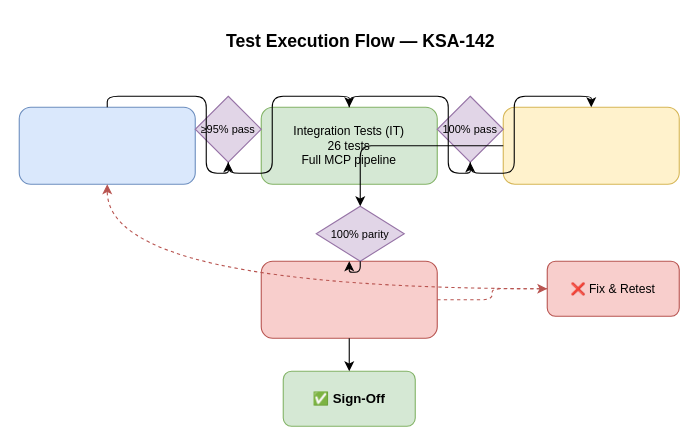
The diagram is 699 pixels wide and 446 high, and some of its shapes have lost their labels. The box of each missing label's shape, as (x1, y1, x2, y2) in pixels:
Parity Tests 12 tests JSON comparison: (502, 106, 679, 184)
SIT (Manual) 6 tests Viewer UI only: (260, 260, 437, 338)
Unit Tests (UT) 42 tests pytest / kotest / Jest: (18, 106, 195, 184)
